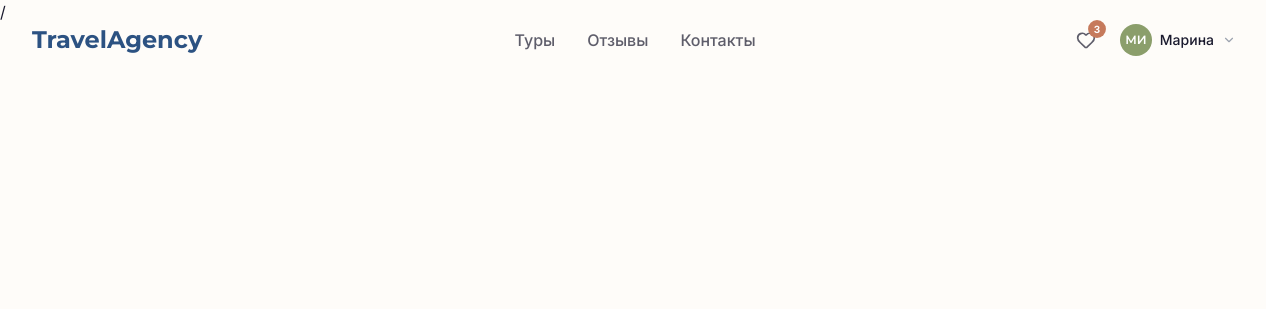
Test: Header pointer › ТК-10 зона вошедшего показывает короткое имя и открывает прежнее меню
This screenshot has width=1266, height=309.
Expected: the button "Марина" does not show "Иванова"
Expected: the button "Профиль" is not shown
What coordinates should you click on to do the following:
click the button "МИ Марина"
I would click on:
 (1182, 40)
Its box is x1=1116 y1=20 x2=1248 y2=60.
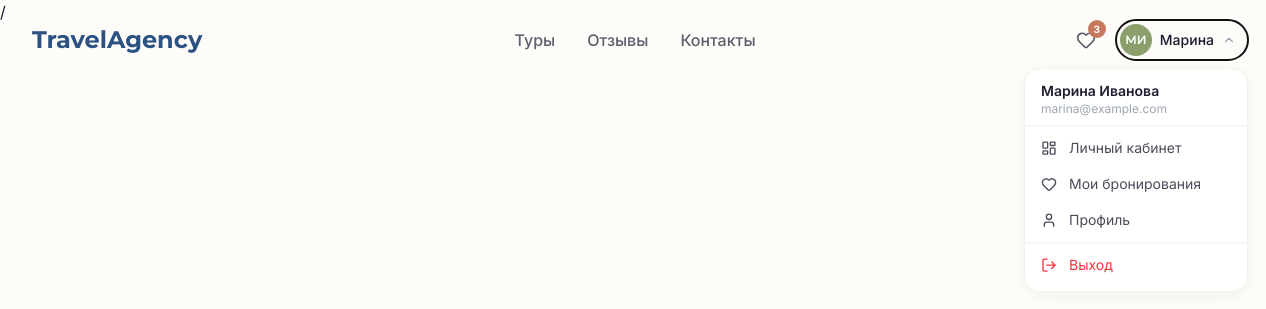
What coordinates should you click on to do the following:
click the link "3"
I would click on:
 (1091, 35)
Its box is x1=1076 y1=20 x2=1106 y2=50.
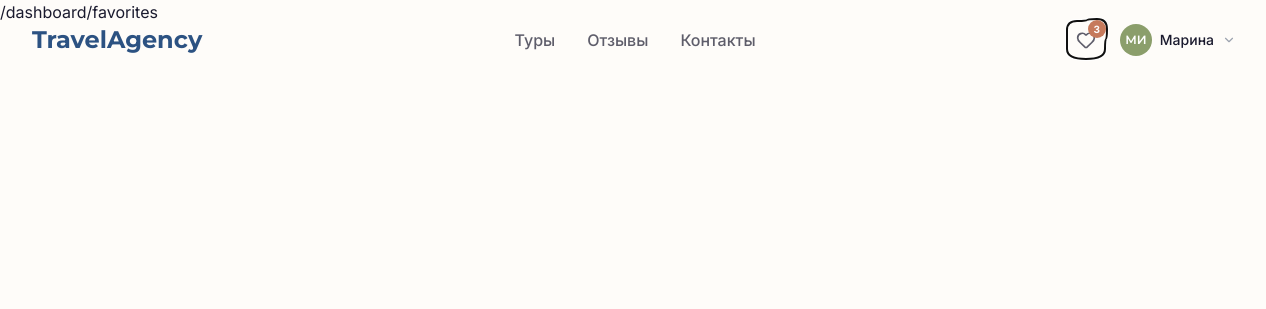
Expected: the text with test id "location" reads "/dashboard/favorites", x1=0 y1=2 x2=158 y2=22
